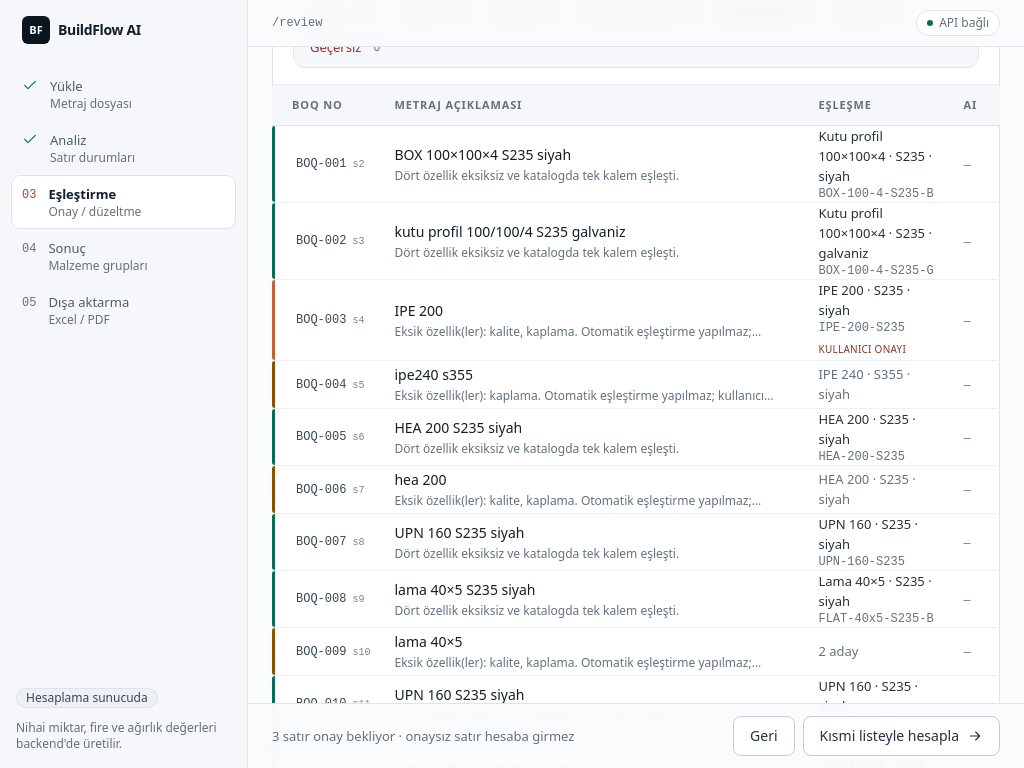
Test: ExportPage › Excel indirir: doğru endpoint, aynı gövde, sunucunun dosya adı
Earlier steps of the test are not shown.
(page scrolled)
Click the text "BOQ-004" at (648, 384), box [272,360,1023,408]
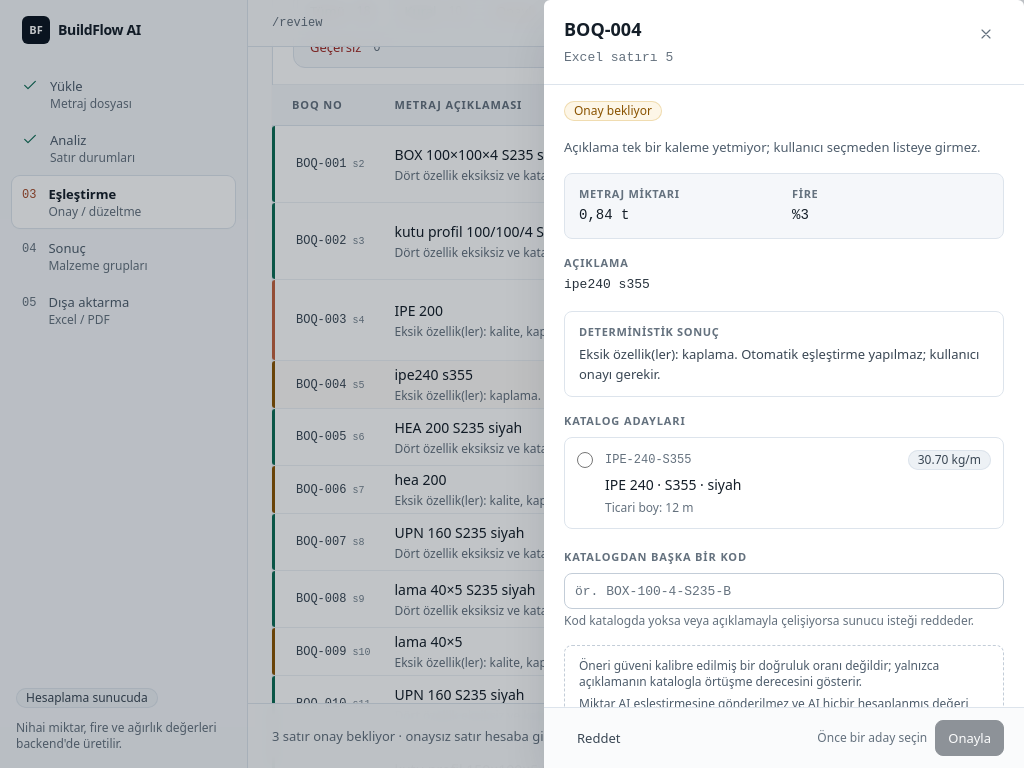
Type "IPE-240-S355" into the field labelled "Katalogdan başka bir kod" at (784, 591), box [564,573,1004,609]
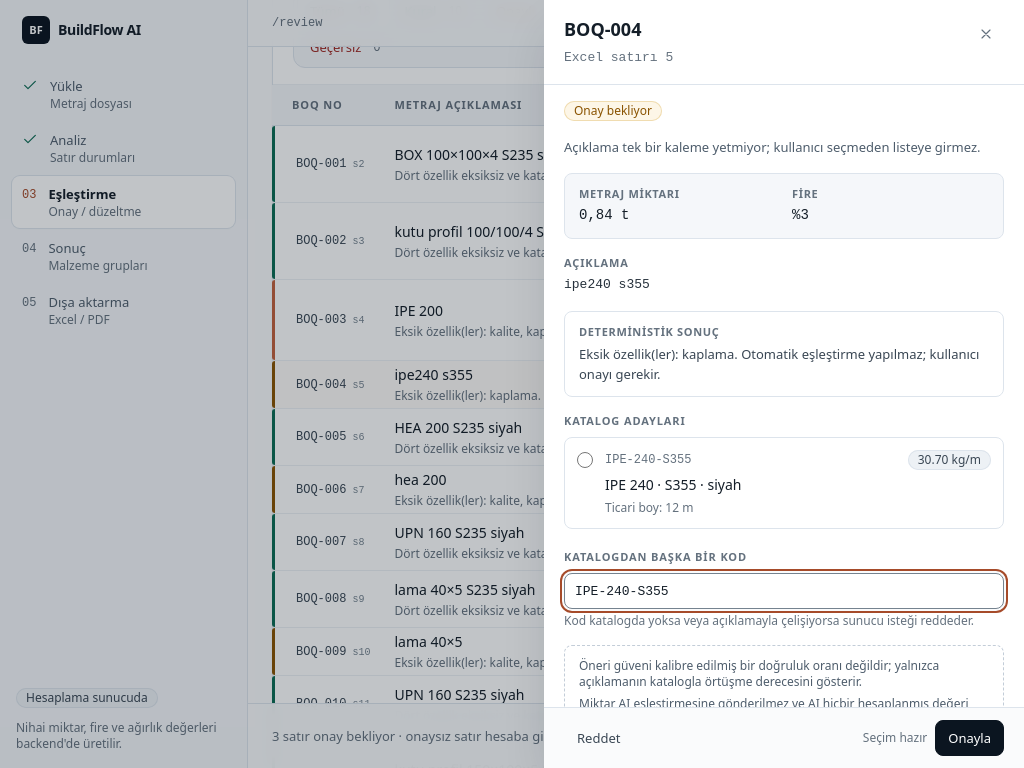
Click the button "Onayla" at (970, 738), box [935,720,1004,756]
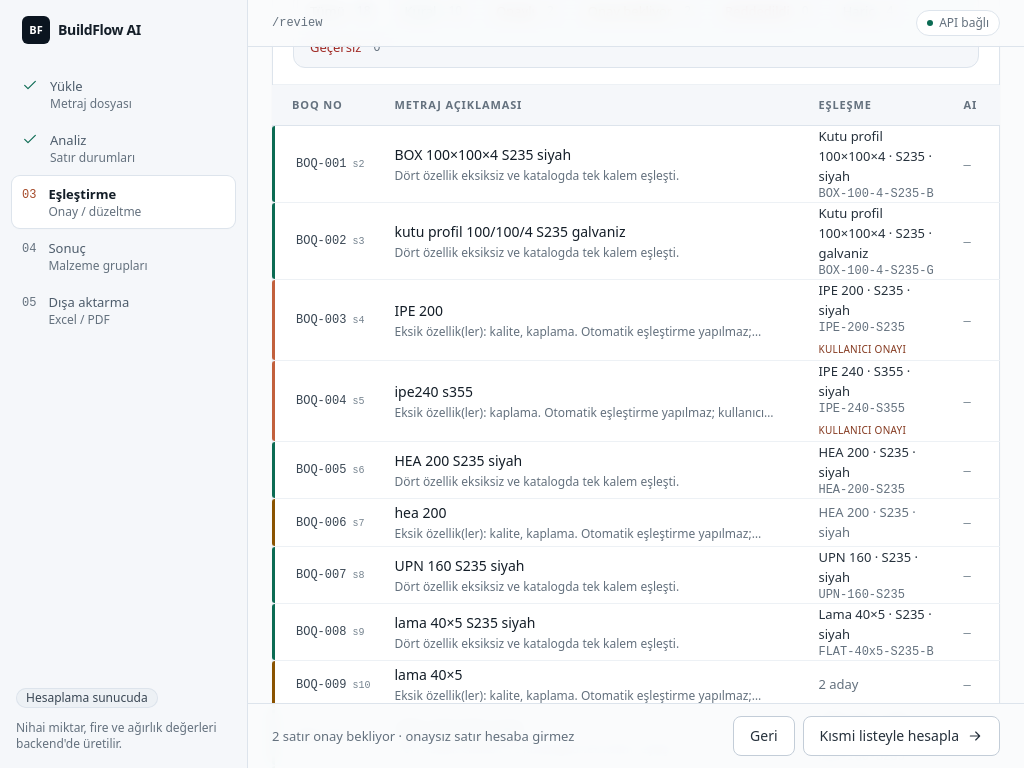
Expected: the dialog is gone
Click the button "Kısmi listeyle hesapla" at (901, 736), box [803,716,1000,756]
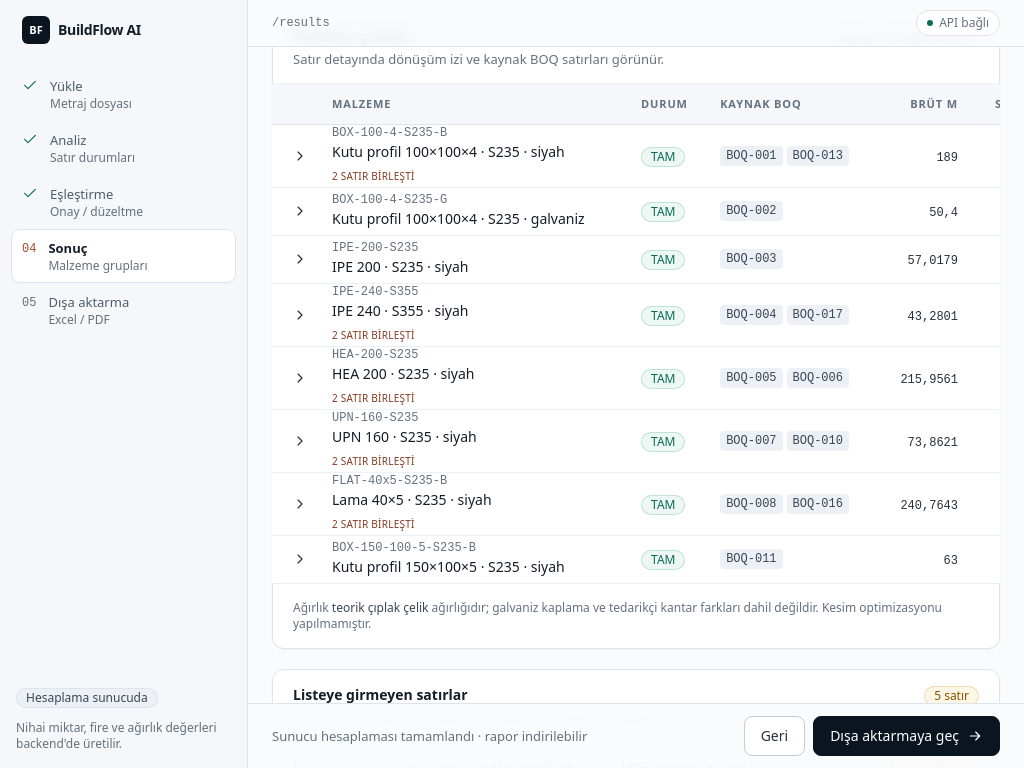
Click the button "Dışa aktarmaya geç" at (907, 736), box [813,716,1000,756]
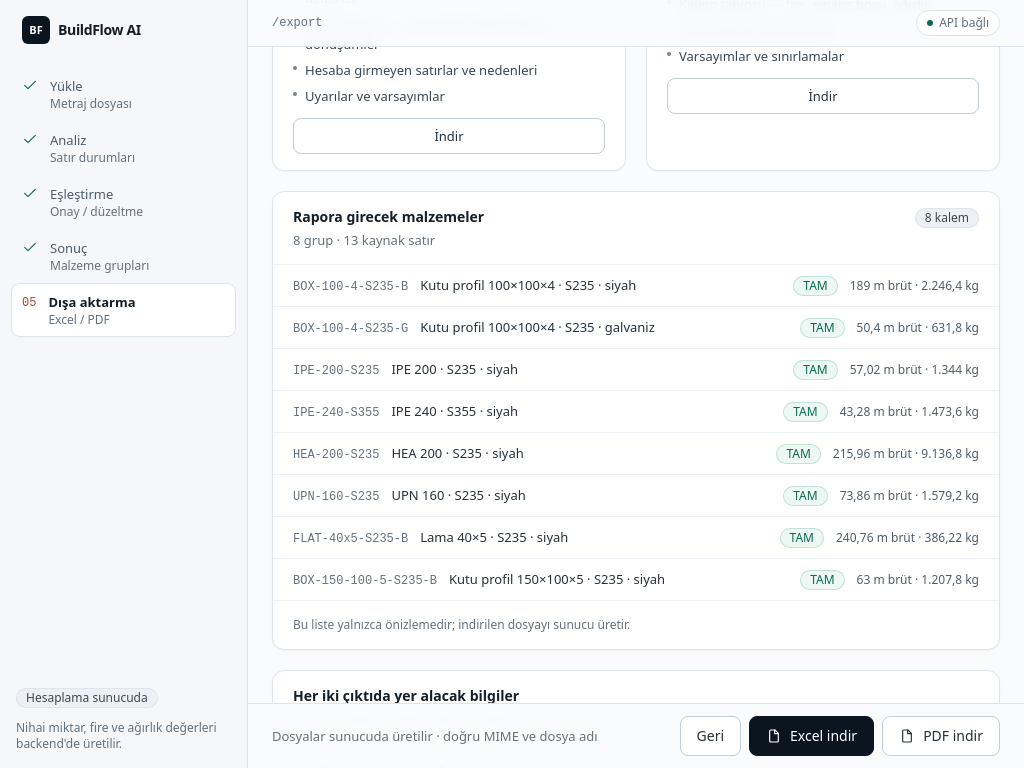
Click the button "Excel indir" at (812, 736), box [749,716,874,756]
(page scrolled)
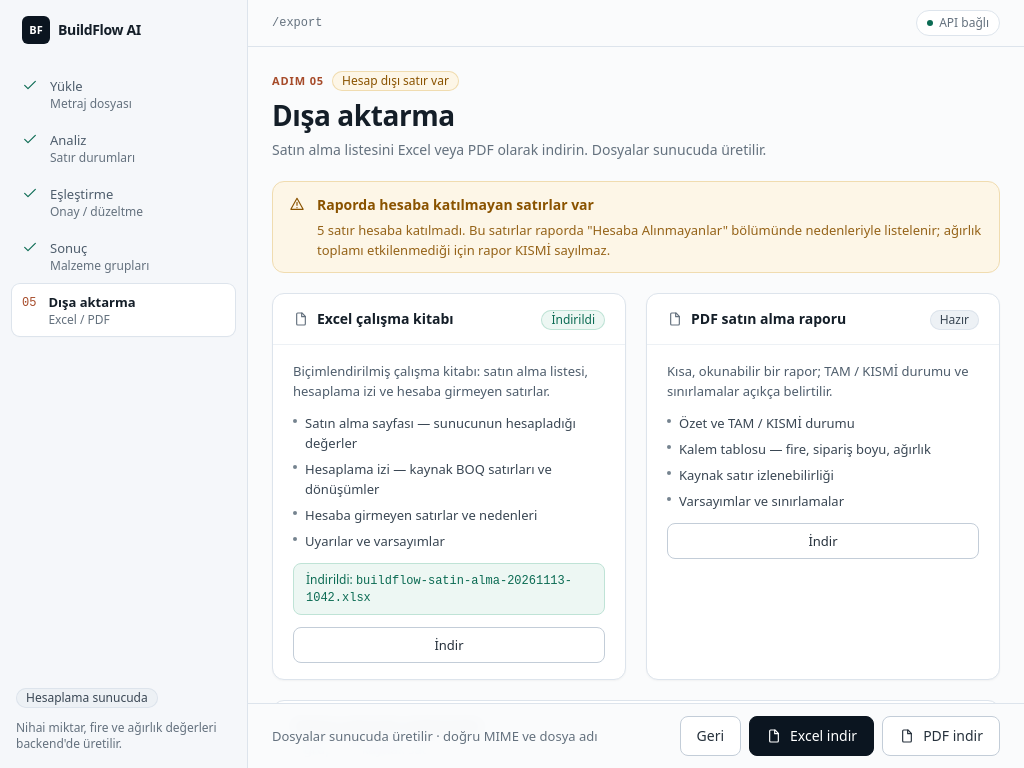
Expected: the text "buildflow-satin-alma-20261113-1042.xlsx" is shown, [306,574,572,605]
Expected: the text "İndirildi" is shown, [541,310,605,330]
